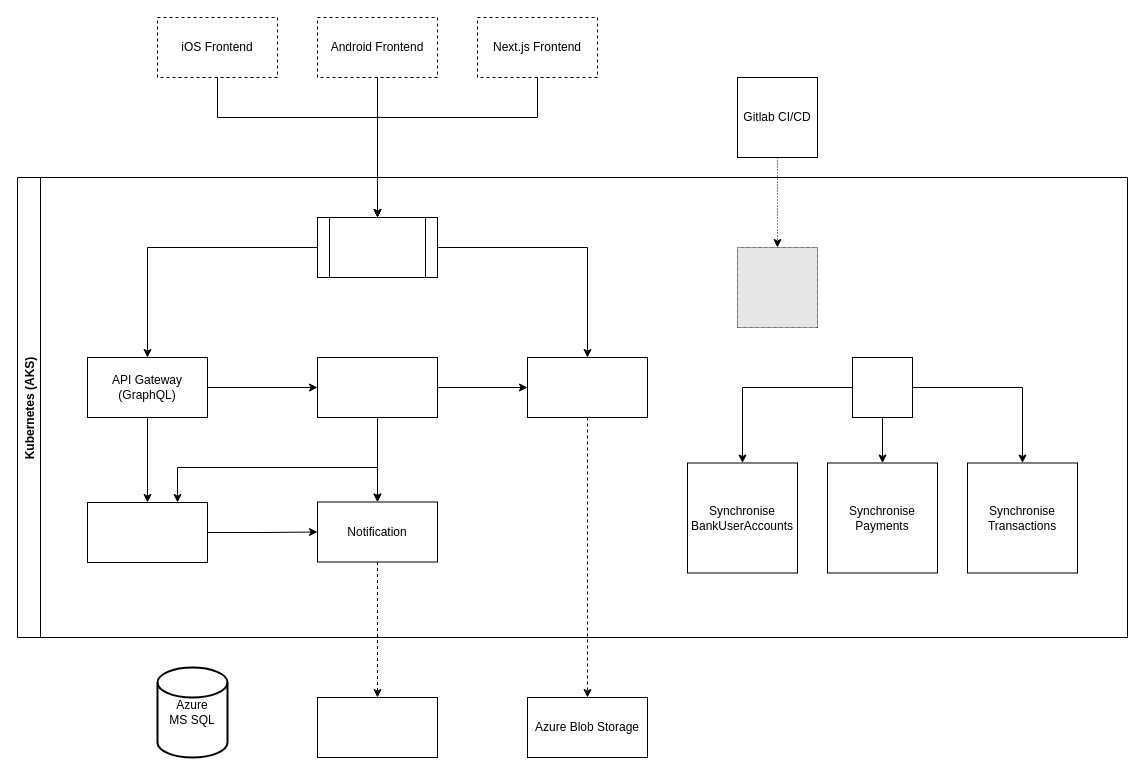
Image size: 1145x776. Some labels were removed from this diagram. Grey dashed boxes stand in for pictures. Each missing label, with the box of its shape:
Auth: (86, 502, 208, 562)
Backend (Bank API): (316, 356, 438, 418)
Routing Rules: (316, 216, 438, 278)
Sendgrid: (316, 696, 438, 758)
Storage API: (526, 356, 648, 418)
Task Scheduler: (852, 356, 912, 418)
